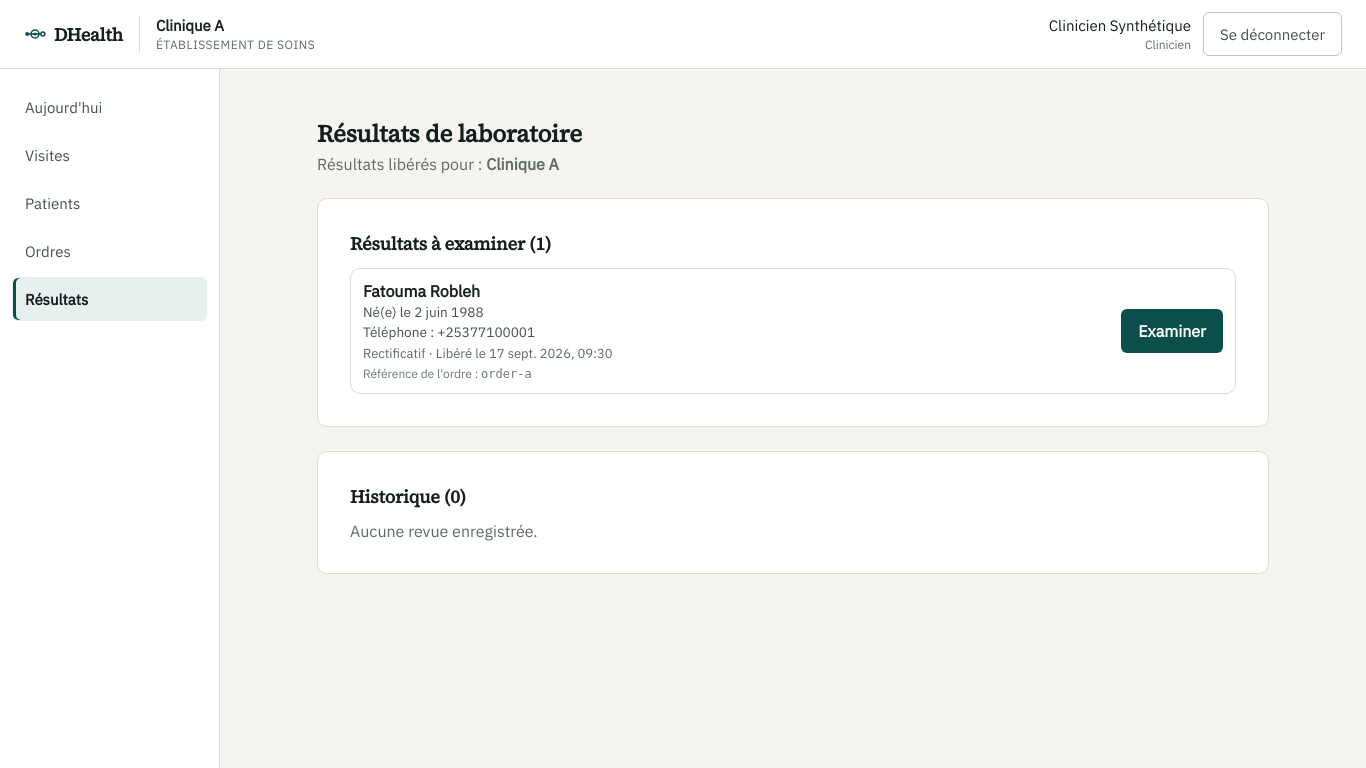
Test: ClinicResultsPage › UI-V2: switching to a different version fetches that version's own distinct exact content
The width and height of the screenshot is (1366, 768).
What coordinates should you click on to do the following:
click the button "Examiner"
I would click on:
 (1172, 331)
Its box is [1121,309,1223,353].
(page scrolled)
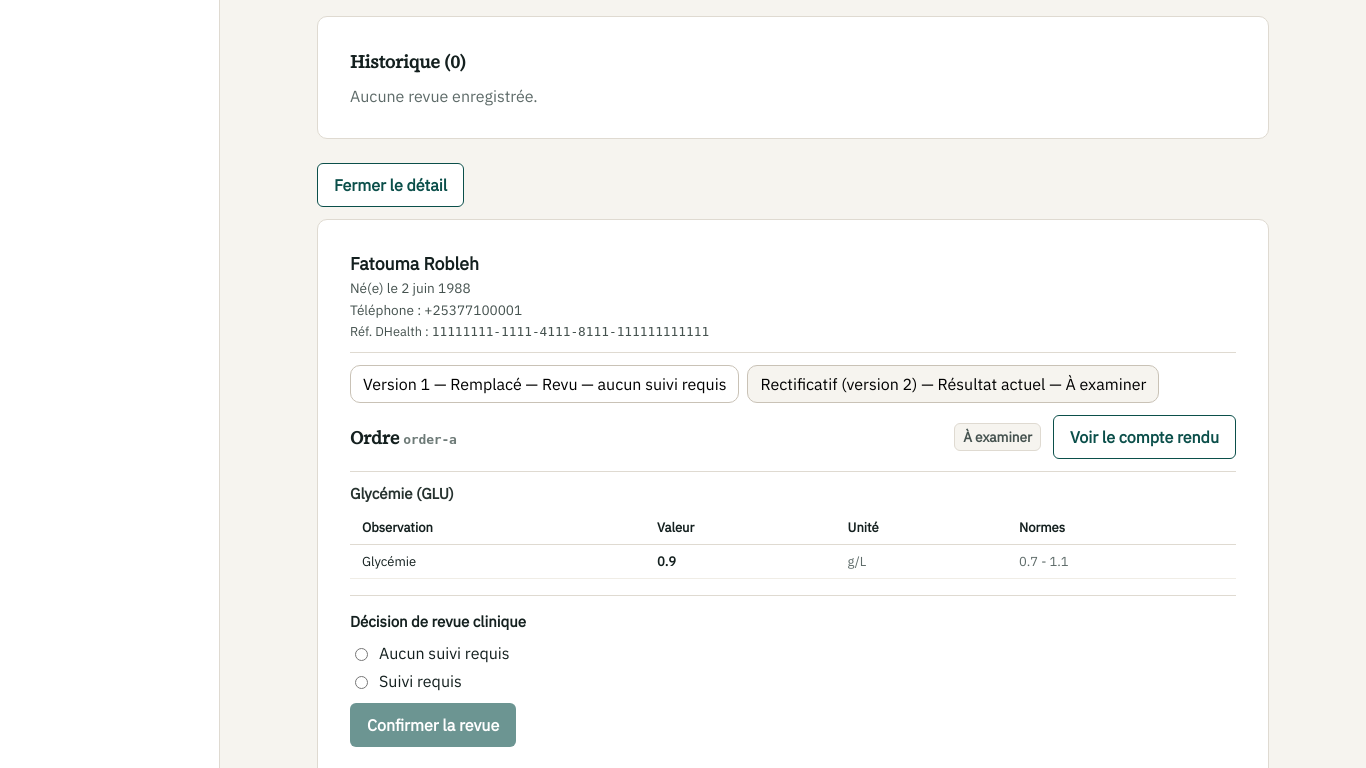
Result: the text "0.9" is shown at [645,544,836,578]
What coordinates should you click on to do the following:
click the tab "Version 1 — Remplacé — Revu — aucun suivi requis"
I would click on:
 (545, 384)
Its box is [350,365,739,403].
(page scrolled)
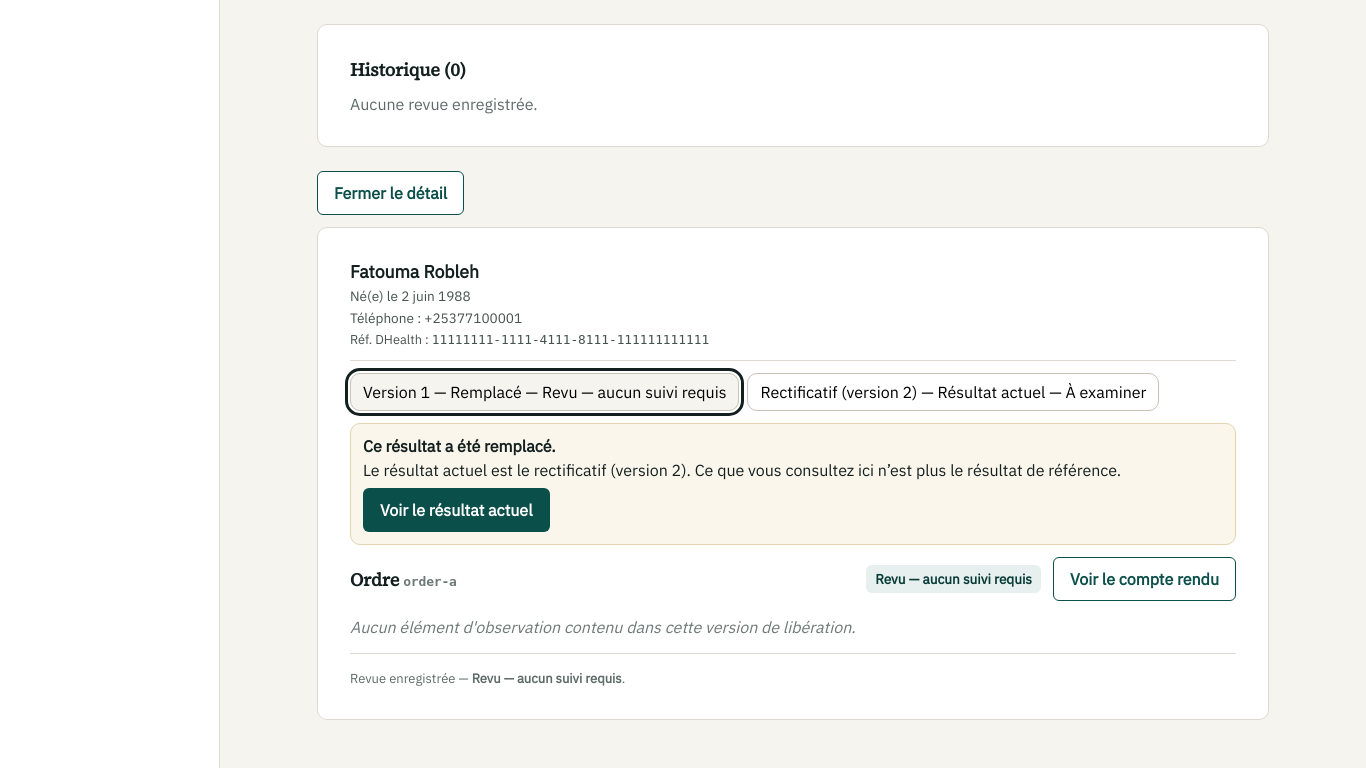
Result: the text "0.9" is gone
